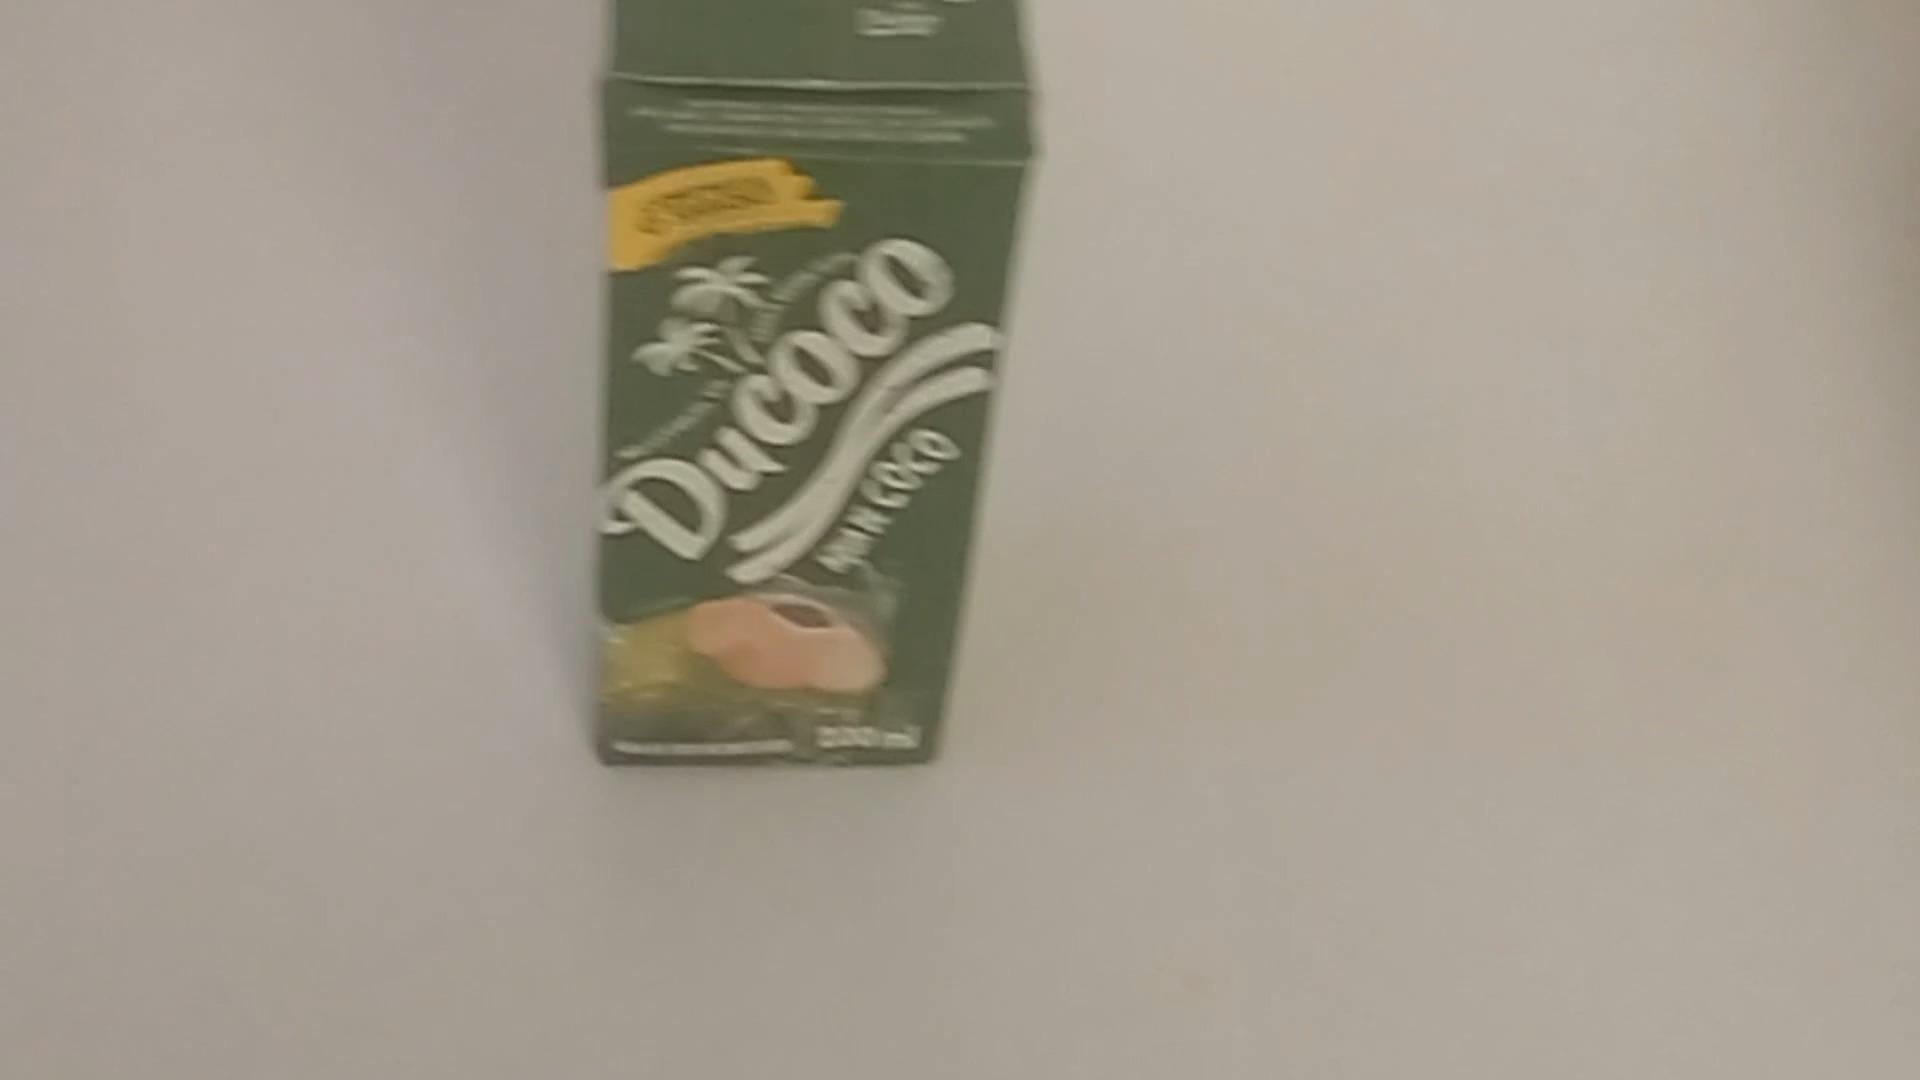coco: (591, 3, 1038, 771)
